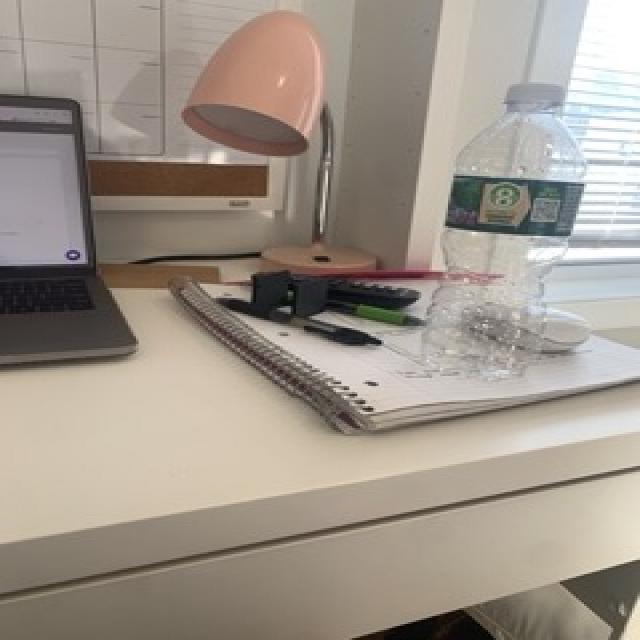water_bottle: (415, 81, 591, 389)
